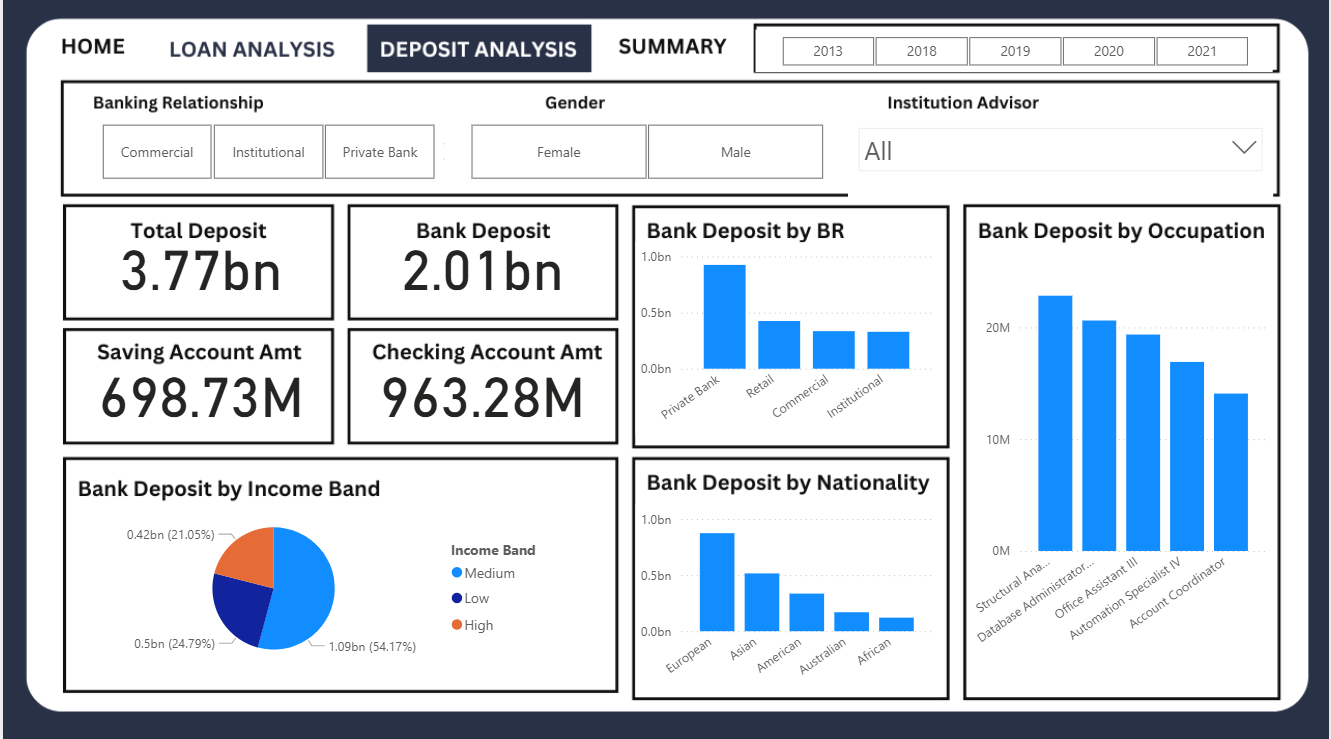

This screenshot's page, from the dashboard's own definition file:
{"tool":"powerbi","page":{"name":"Deposits Analysis","canvas":[1280,720],"ordinal":2},"visuals":[{"type":"actionButton","box":[45.3,32.9,100.2,39.8],"z":0},{"type":"actionButton","box":[590.1,31.6,113.9,39.8],"z":1000},{"type":"actionButton","box":[145.5,32.9,183.9,39.8],"z":2000},{"type":"actionButton","box":[352.7,22,218.2,52.1],"z":3000},{"type":"slicer","fields":{"Values":["banking-clients.joined_year"]},"box":[725.9,32.9,499.5,41.2],"z":4000},{"type":"card","fields":{"Values":["banking-clients.Total Deposits"]},"box":[85.1,237.4,211.3,63.1],"z":5000},{"type":"card","fields":{"Values":["Sum(banking-clients.Bank Deposits)"]},"box":[356.8,237.4,211.3,63.1],"z":6000},{"type":"card","fields":{"Values":["Sum(banking-clients.Saving Accounts)"]},"box":[85.1,359.5,211.3,63.1],"z":7000},{"type":"card","fields":{"Values":["Sum(banking-clients.Checking Accounts)"]},"box":[356.8,359.5,211.3,63.1],"z":8000},{"type":"pieChart","fields":{"Category":["banking-clients.Income Band"],"Y":["Sum(banking-clients.Bank Deposits)"]},"box":[85.1,491.3,451.5,161.9],"z":9000},{"type":"columnChart","fields":{"Category":["banking-clients.BRId"],"Y":["Sum(banking-clients.Bank Deposits)"]},"box":[610.6,237.4,292.3,185.2],"z":10000},{"type":"columnChart","fields":{"Category":["banking-clients.Nationality"],"Y":["Sum(banking-clients.Bank Deposits)"]},"box":[610.6,491.3,292.3,185.2],"z":11000},{"type":"columnChart","fields":{"Category":["banking-clients.Occupation"],"Y":["Sum(banking-clients.Bank Deposits)"]},"box":[933.1,252.5,292.3,400.7],"z":12000},{"type":"slicer","title":"BRId","fields":{"Values":["banking-clients.BRId"]},"box":[70,116.6,370.5,65.9],"z":13000},{"type":"slicer","title":"BRId","fields":{"Values":["banking-clients.GenderId"]},"box":[425.4,116.6,389.7,65.9],"z":14000},{"type":"slicer","fields":{"Values":["banking-clients.IAId"]},"box":[815.1,116.6,410.3,82],"z":14001}]}

Visuals, with their boxes in screenshot pixels (x1, y1, x2, y2), scaled from the page's 1280x720 canvas onto the 1331x739 screenshot:
actionButton: <region>47, 34, 151, 75</region>
actionButton: <region>614, 32, 732, 73</region>
actionButton: <region>151, 34, 343, 75</region>
actionButton: <region>367, 23, 594, 76</region>
slicer - banking-clients.joined_year: <region>755, 34, 1274, 76</region>
card - banking-clients.Total Deposits: <region>88, 244, 308, 308</region>
card - Sum(banking-clients.Bank Deposits): <region>371, 244, 591, 308</region>
card - Sum(banking-clients.Saving Accounts): <region>88, 369, 308, 434</region>
card - Sum(banking-clients.Checking Accounts): <region>371, 369, 591, 434</region>
pieChart - banking-clients.Income Band x Sum(banking-clients.Bank Deposits): <region>88, 504, 558, 670</region>
columnChart - banking-clients.BRId x Sum(banking-clients.Bank Deposits): <region>635, 244, 939, 434</region>
columnChart - banking-clients.Nationality x Sum(banking-clients.Bank Deposits): <region>635, 504, 939, 694</region>
columnChart - banking-clients.Occupation x Sum(banking-clients.Bank Deposits): <region>970, 259, 1274, 670</region>
"BRId" slicer: <region>73, 120, 458, 187</region>
"BRId" slicer: <region>442, 120, 848, 187</region>
slicer - banking-clients.IAId: <region>848, 120, 1274, 204</region>
